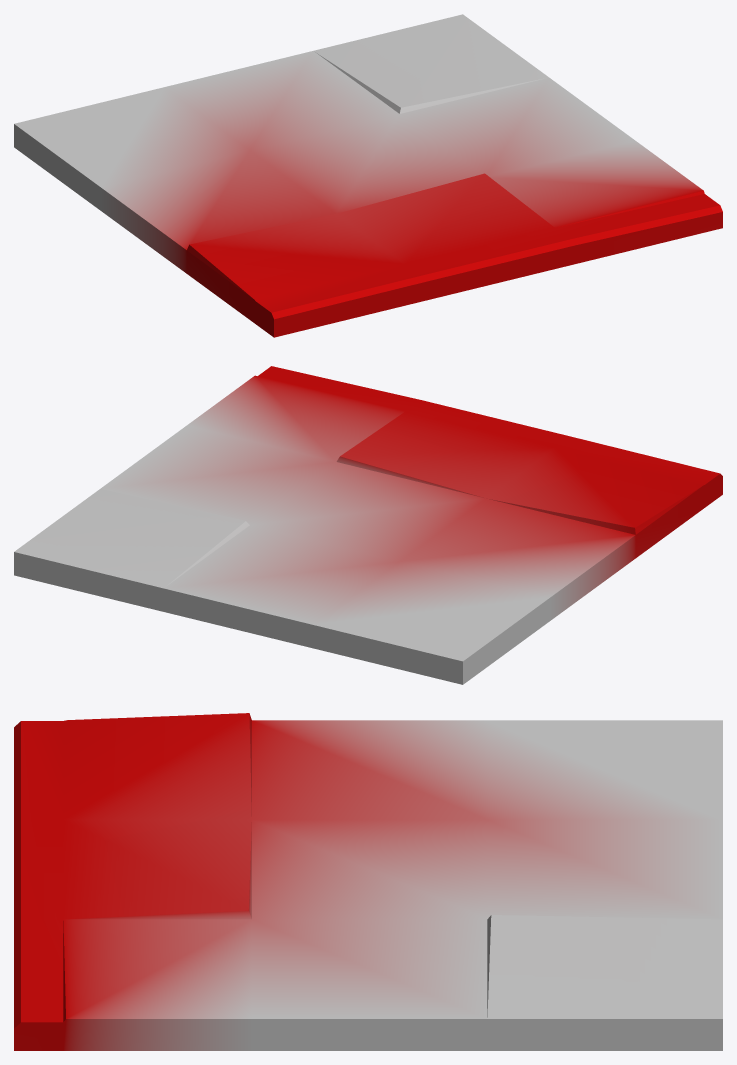
Rendered from Sidewalk_Straight_3m_Broken2.gltf.
3 renders of one model, top to bottom at view 1: azimuth 30°, elevation 25°; view 2: azimuth 150°, elevation 25°; view 3: azimuth 270°, elevation 25°, orthographic. The views are drawn at different scales.
Visible parts, largest first — view 1: Sidewalk_Straight_3m_Broken2; view 2: Sidewalk_Straight_3m_Broken2; view 3: Sidewalk_Straight_3m_Broken2.
Boxes of the visible parts, left/top/right/bottom form: Sidewalk_Straight_3m_Broken2: left=14, top=14, right=722, bottom=337; Sidewalk_Straight_3m_Broken2: left=14, top=366, right=722, bottom=684; Sidewalk_Straight_3m_Broken2: left=14, top=713, right=722, bottom=1050.
Size of what is drawn, in the model's own units: 3 by 0.1888 by 3.01.
